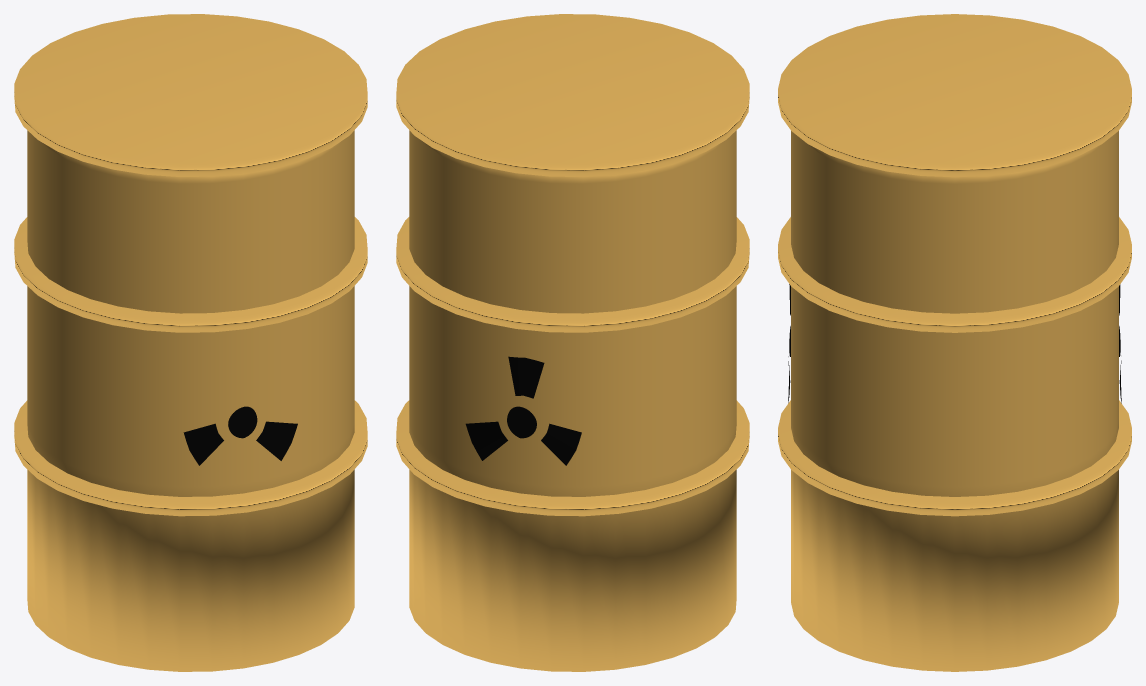
File: radioactive_tank.fbx
3 views of the same model, side by side, from view 1: azimuth 30°, elevation 25°; view 2: azimuth 150°, elevation 25°; view 3: azimuth 270°, elevation 25° (orthographic).
Parts seen in each view (by area): view 1: Cylinder.001; view 2: Cylinder.001; view 3: Cylinder.001.
Boxes of the visible parts, x1=… form: Cylinder.001: x1=14, y1=14, x2=367, y2=671; Cylinder.001: x1=396, y1=14, x2=749, y2=671; Cylinder.001: x1=778, y1=14, x2=1131, y2=671.
Size of the model in its own units: 73.15 by 117 by 73.15.
